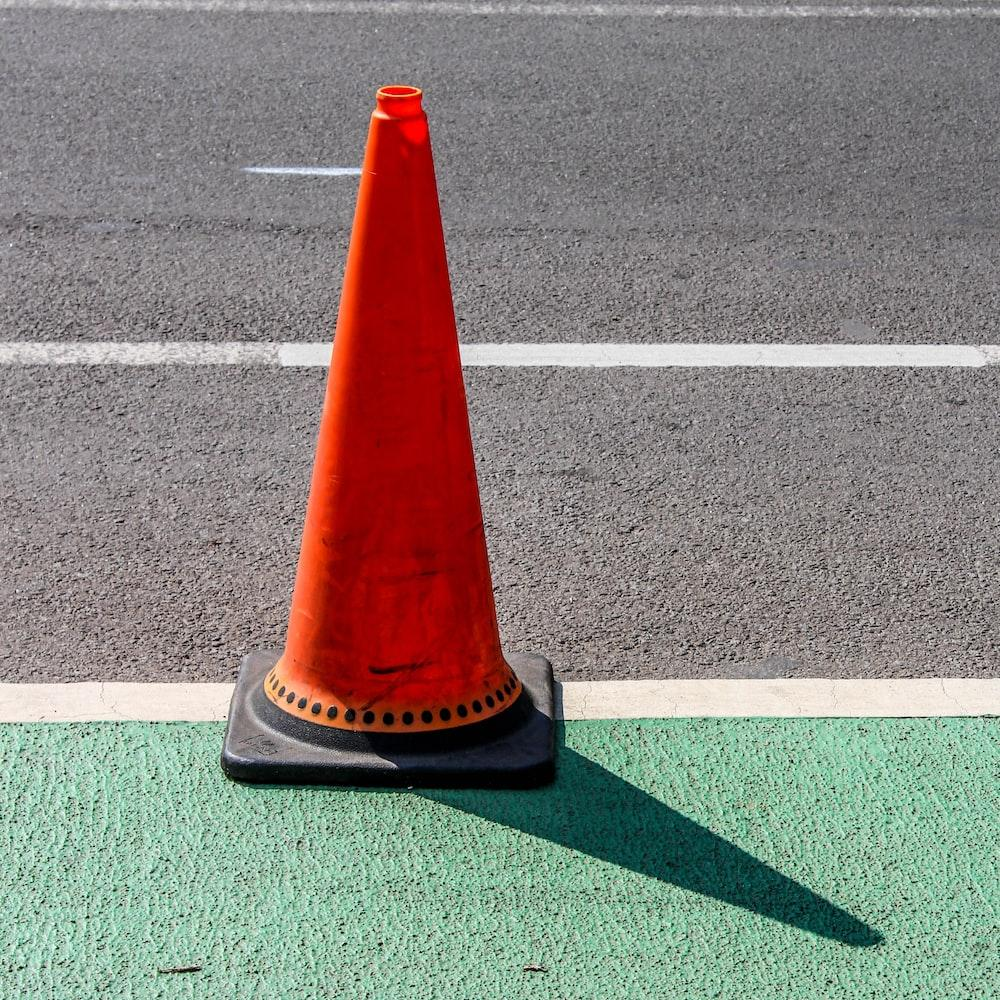traffic cone: (221, 83, 561, 790)
